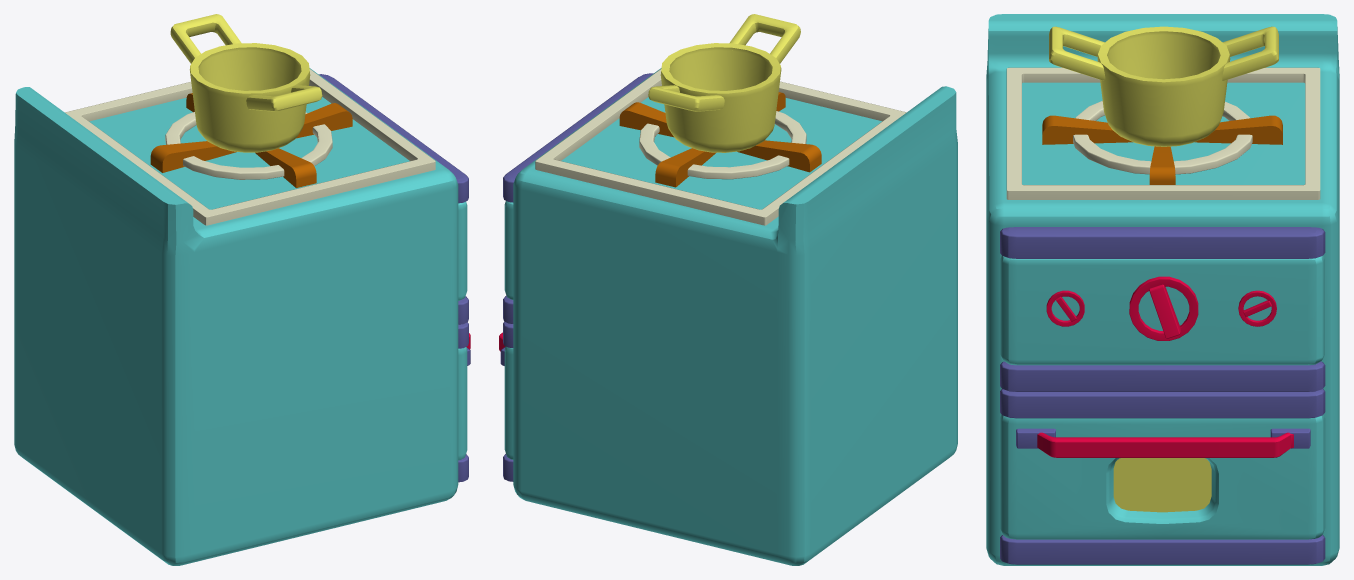
The model's file is gass.fbx.
3 views of the same model, side by side, from view 1: azimuth 30°, elevation 25°; view 2: azimuth 150°, elevation 25°; view 3: azimuth 270°, elevation 25° (orthographic). The views are drawn at different scales.
Parts seen in each view (by area): view 1: pCube27, pCylinder34, pPipe1, group1_pCube34, pPipe2, pCube33, pCube29, pCube28; view 2: pCube27, pCylinder34, pPipe1, group1_pCube34, pPipe2, pCube33, pCube29, pCube28; view 3: pCube27, pCube29, pCube28, pCylinder34, pPipe1, pCube33, pCube32, pCube30, pCube31, pCube36, group1_pCube34, pPipe2 (+6 smaller).
Part boxes in pixels (x1,y1,x2,y2): pCube27: (14, 68, 458, 565); pCylinder34: (170, 14, 322, 152); pPipe1: (65, 69, 435, 225); group1_pCube34: (150, 93, 352, 188); pPipe2: (165, 112, 332, 179); pCube33: (319, 74, 468, 203); pCube29: (458, 347, 467, 460); pCube28: (458, 201, 467, 300); pCube27: (513, 68, 957, 565); pCylinder34: (648, 14, 800, 152); pPipe1: (535, 69, 906, 225); group1_pCube34: (619, 92, 821, 187); pPipe2: (639, 111, 806, 179); pCube33: (503, 73, 653, 202); pCube29: (504, 346, 513, 459); pCube28: (504, 201, 513, 299); pCube27: (986, 14, 1339, 565); pCube29: (1000, 414, 1325, 539); pCube28: (1000, 256, 1324, 365); pCylinder34: (1049, 26, 1278, 146); pPipe1: (1006, 67, 1320, 199); pCube33: (1000, 227, 1325, 258); pCube32: (1000, 361, 1325, 391); pCube30: (1000, 389, 1325, 418); pCube31: (1000, 534, 1325, 564); pCube36: (1037, 432, 1293, 457); group1_pCube34: (1042, 115, 1282, 184); pPipe2: (1073, 101, 1252, 174).
Size of the model in its own units: 5.64 by 6.82 by 4.74.
